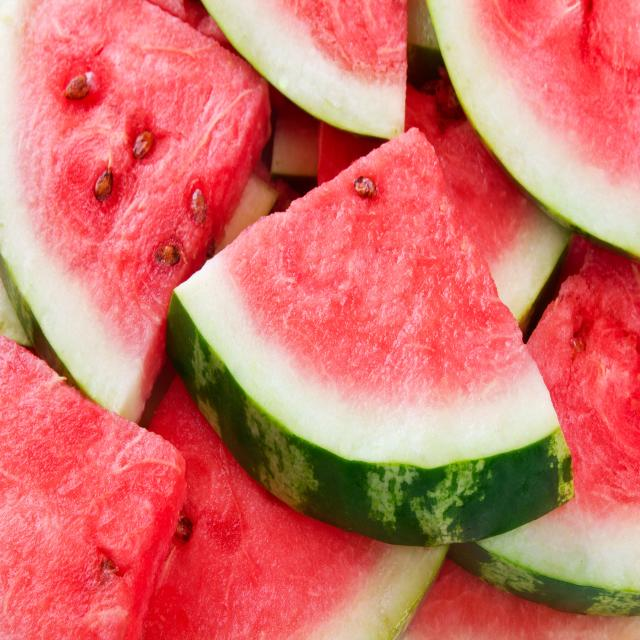Watermelon: (166, 129, 574, 546), (0, 2, 270, 422), (144, 377, 446, 639), (455, 240, 640, 615), (0, 336, 186, 638), (429, 0, 640, 259), (405, 68, 570, 330), (204, 0, 406, 139), (318, 124, 380, 186)
